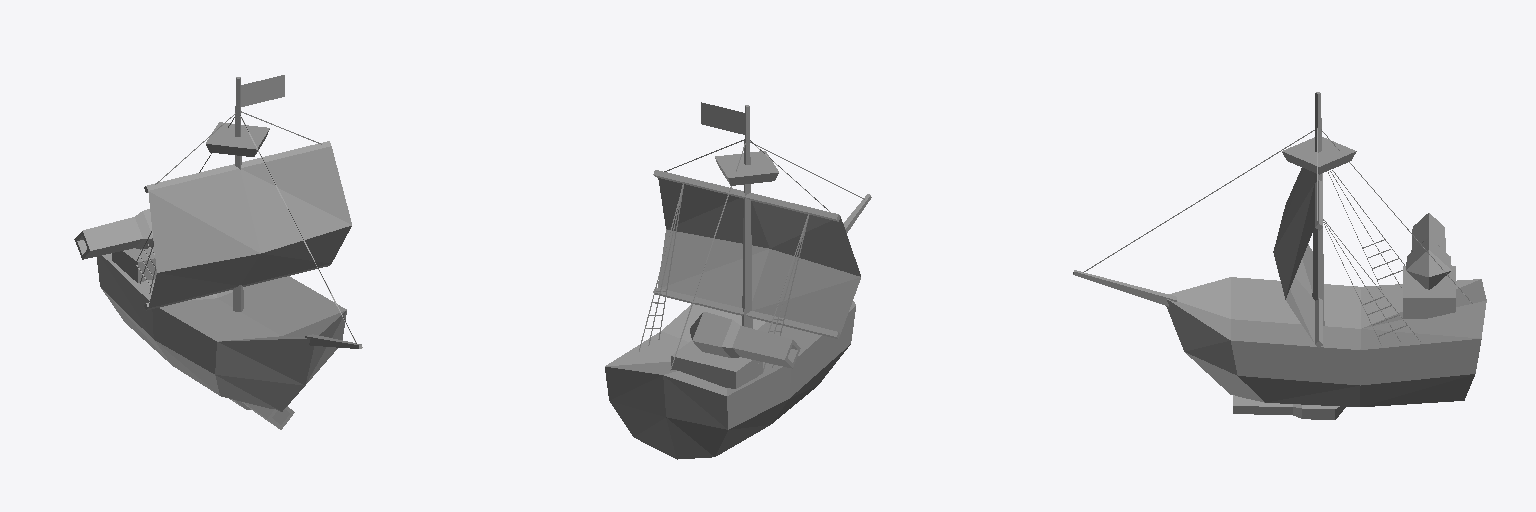
The model's file is pirate_ship.obj.
3 views of the same model, side by side, from view 1: azimuth 30°, elevation 25°; view 2: azimuth 150°, elevation 25°; view 3: azimuth 270°, elevation 25° (orthographic).
Parts seen in each view (by area): view 1: boat_Cube, cloth_Cube.008, cannon.001_Cube.015, ropes_Cube.010, cannon_Cube.005; view 2: boat_Cube, cloth_Cube.008, cannon.001_Cube.015, ropes_Cube.010; view 3: boat_Cube, cloth_Cube.008, cannon.001_Cube.015, cannon_Cube.005, ropes_Cube.010.
Part boxes in pixels (x1,y1,x2,y2): boat_Cube: (97,77,362,411); cloth_Cube.008: (148,75,351,307); cannon.001_Cube.015: (74,209,153,259); ropes_Cube.010: (136,111,356,343); cannon_Cube.005: (230,399,294,429); boat_Cube: (605,105,871,459); cloth_Cube.008: (658,102,860,333); cannon.001_Cube.015: (690,312,800,368); ropes_Cube.010: (639,139,864,373); boat_Cube: (1073,92,1486,406); cloth_Cube.008: (1273,168,1314,343); cannon.001_Cube.015: (1406,213,1451,289); cannon_Cube.005: (1233,395,1345,419); ropes_Cube.010: (1083,128,1472,345).
Bounding box in the file's own units: 2.18 × 3.44 × 3.94.